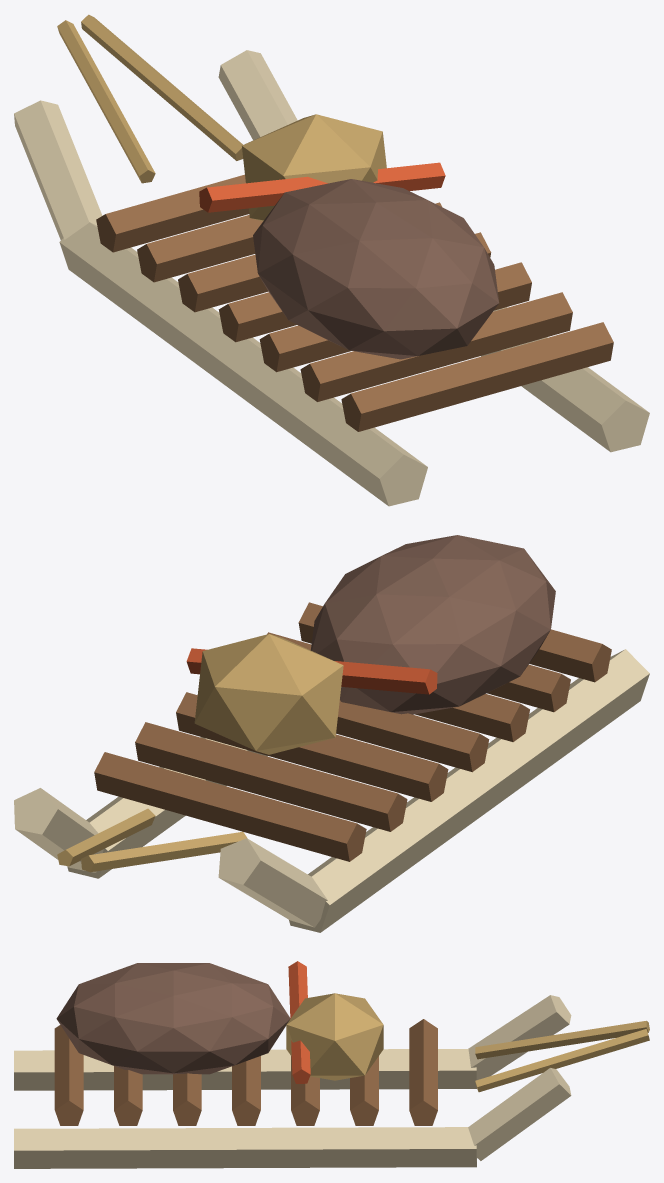
The model's file is bone_sled.glb.
3 renders of one model, top to bottom at view 1: azimuth 30°, elevation 25°; view 2: azimuth 150°, elevation 25°; view 3: azimuth 270°, elevation 25°, orthographic. The views are drawn at different scales.
Parts seen in each view (by area): view 1: bone_sled; view 2: bone_sled; view 3: bone_sled.
Part boxes in pixels (x1=…): bone_sled: x1=14, y1=14, x2=649, y2=506; bone_sled: x1=14, y1=535, x2=649, y2=932; bone_sled: x1=14, y1=961, x2=649, y2=1168.
Bounding box in the file's own units: 1.15 × 0.8074 × 3.23.
